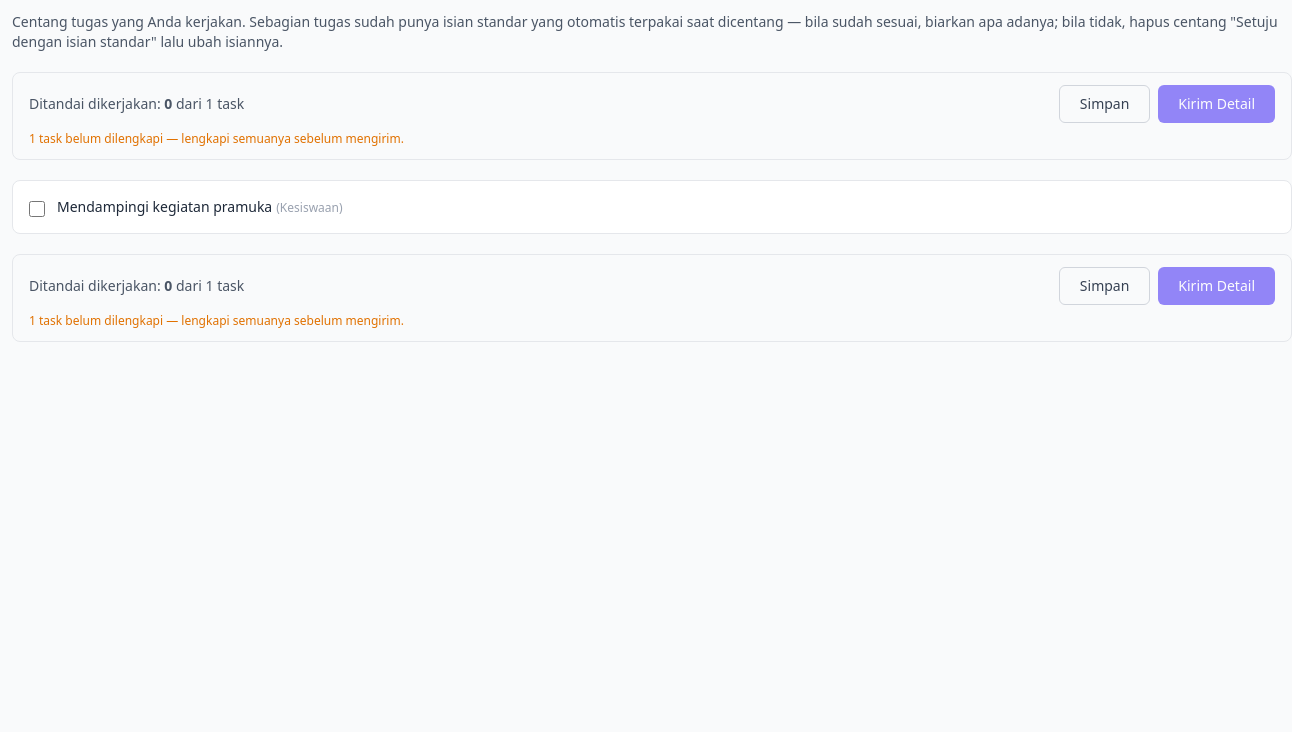
Test: DetailForm — Tahap 3: durasi standar (issue #22, Opsi A) › saat 'Setuju dengan isian standar' tercentang: durasi TIDAK diprefill 60, field sibling terkunci, durasi tetap dapat diedit
The width and height of the screenshot is (1292, 732).
Click the checkbox labelled "Mendampingi kegiatan pramuka(Kesiswaan)": (37, 209) 29,201 -> 45,217
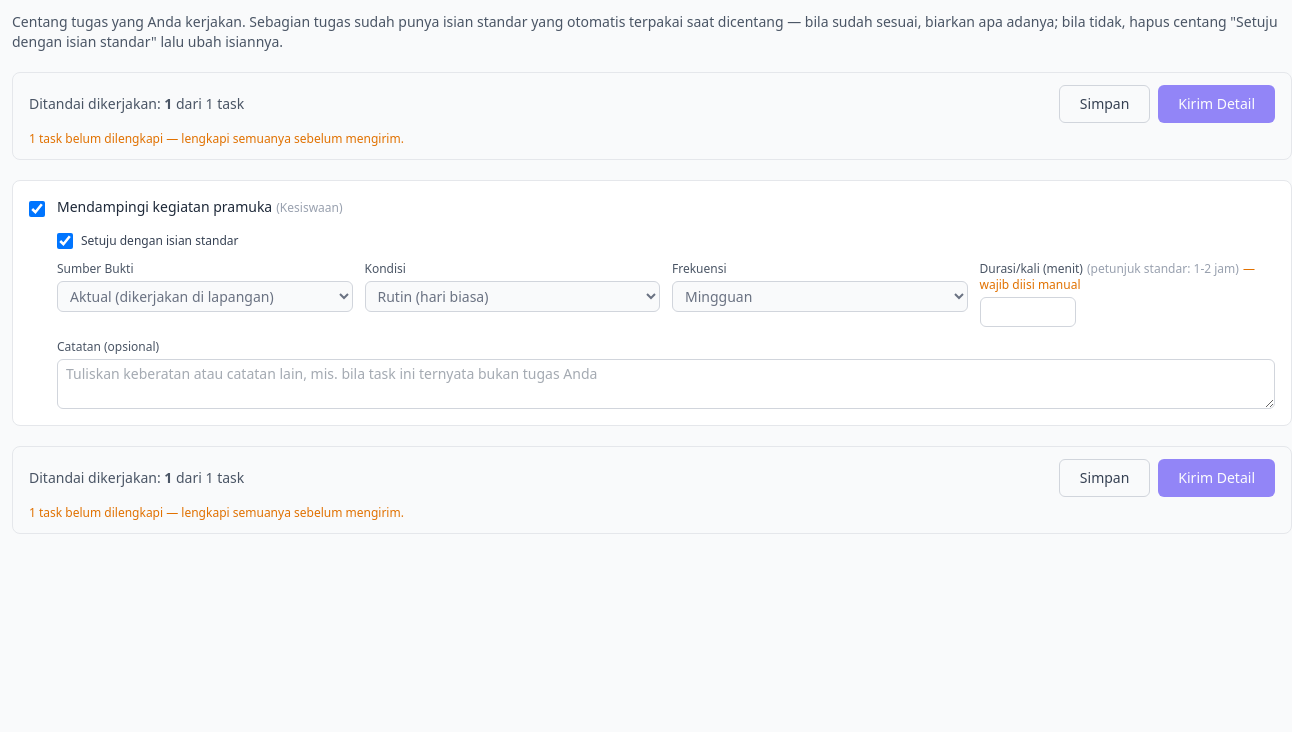
Result: the dropdown labelled "Sumber Bukti" is disabled at 57,281 -> 352,312
Result: the dropdown labelled "Kondisi" is disabled at 364,281 -> 660,312
Result: the dropdown labelled "Frekuensi" is disabled at 672,281 -> 968,312
